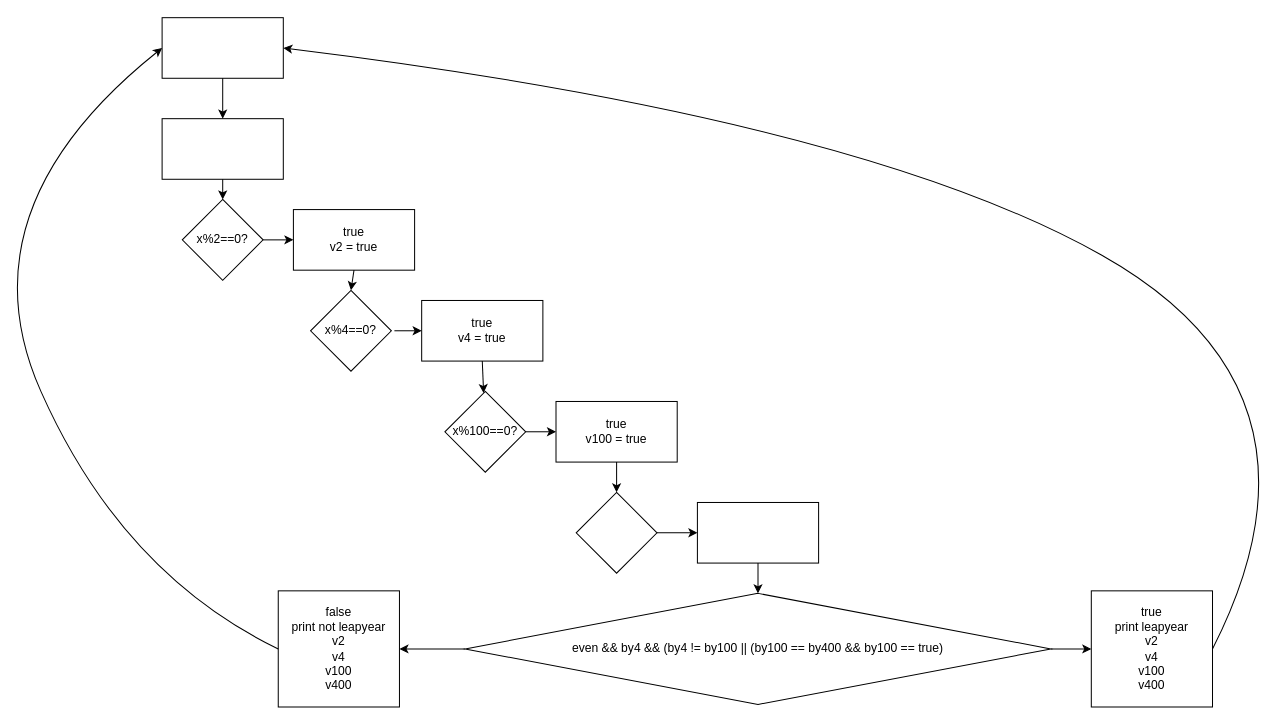
The diagram is 1277 pixels wide and 725 high, and some of its shapes have lost their labels. Each missing label, with the box of its shape:
loop start: (161, 17, 283, 78)
true v400 = true: (696, 501, 819, 563)
x%400==0?: (575, 491, 657, 573)
x= input int: (161, 118, 283, 179)
